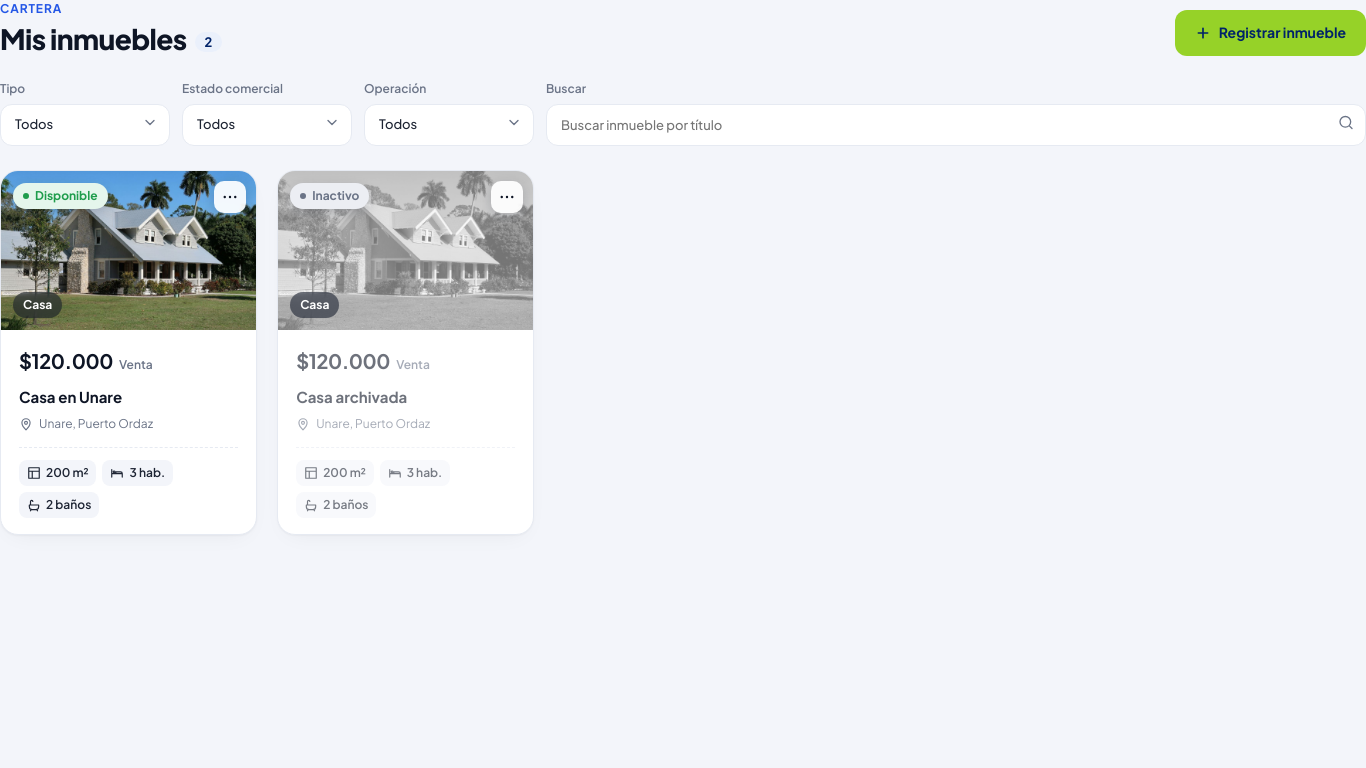
desactivar pide confirmación y un inactivo se puede reactivar sin confirmar
Expected: the link "Casa archivada" is shown, [296,387,407,406]
Expected: the text "Inactivo" is shown, [290,183,369,209]
Click the button named "Opciones de Casa en Unare". click: (230, 197)
box: [214,181,246,213]
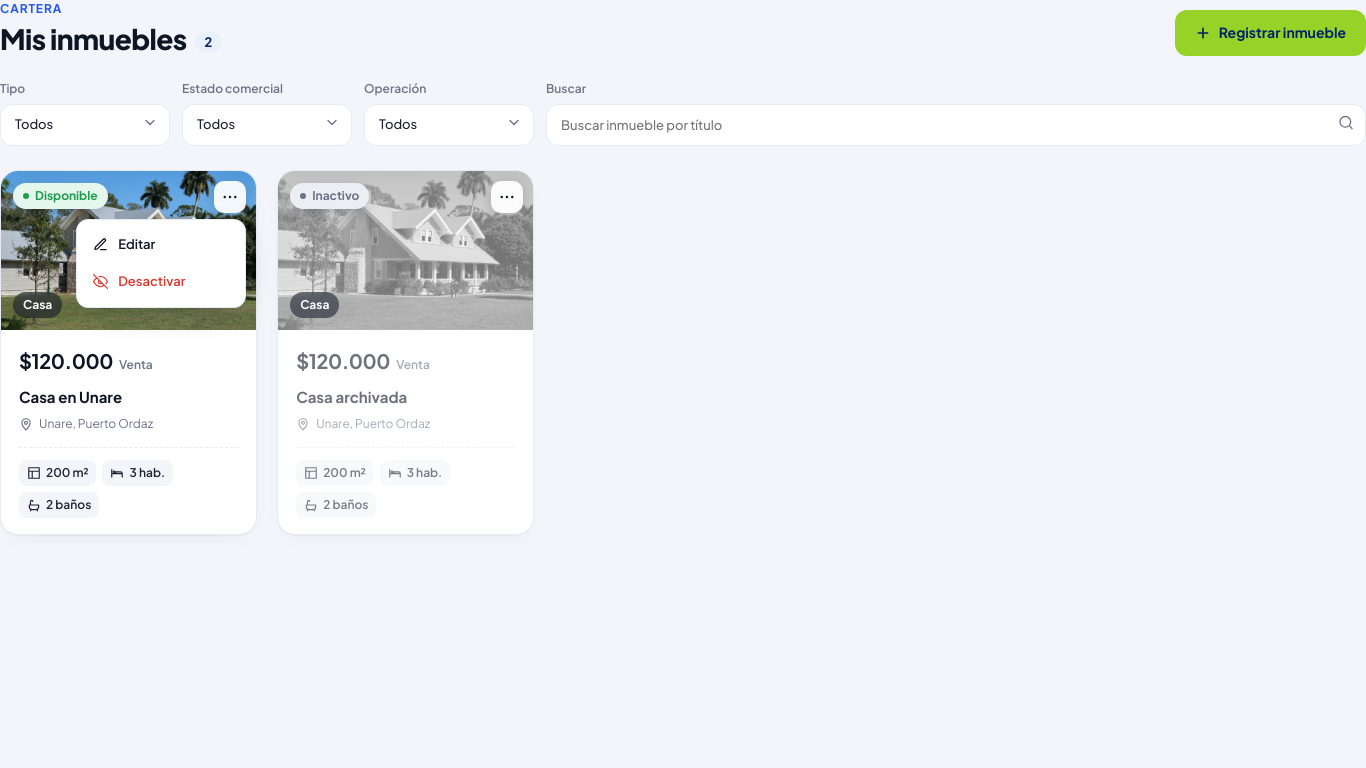
Click the menu item "Desactivar". click: (161, 282)
box: [83,263,239,301]
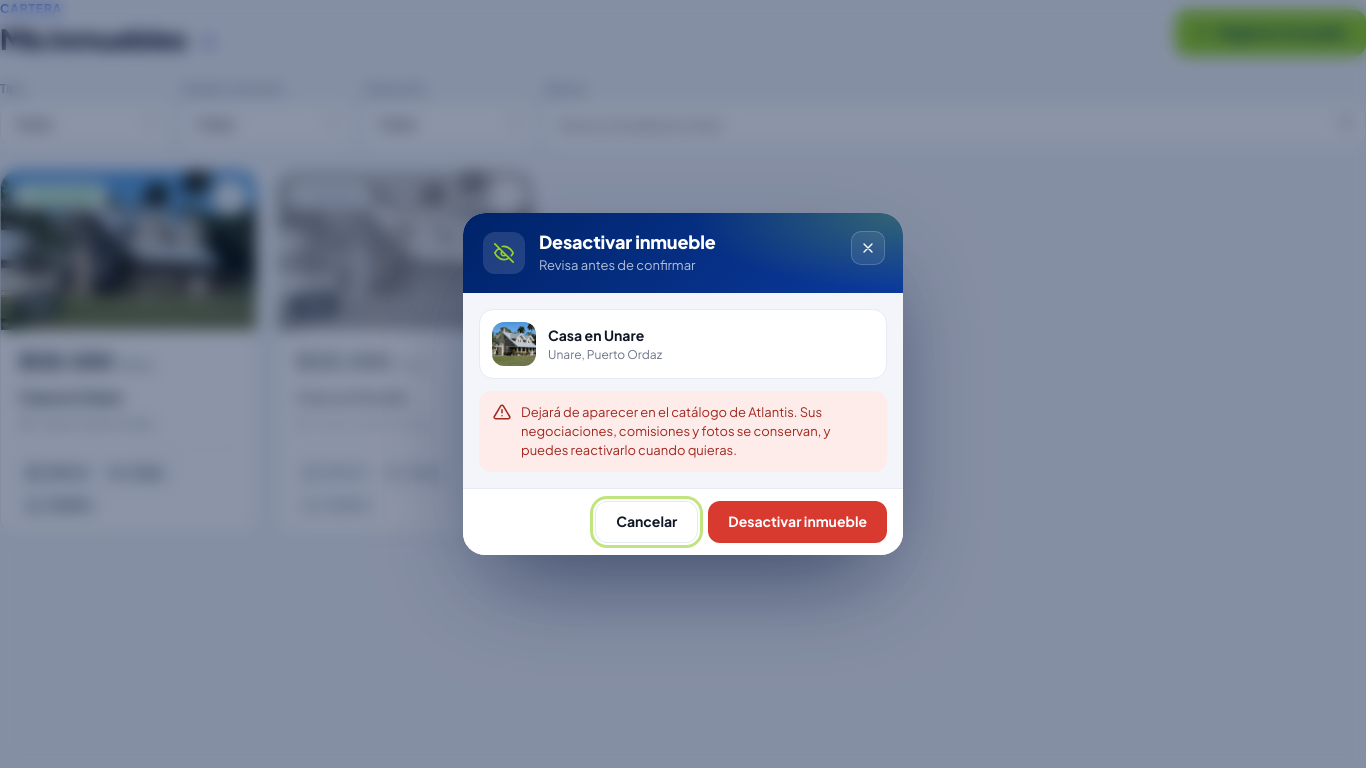
Expected: the dialog "Desactivar inmueble" shows "se conservan", [521,404,830,458]
Click the button "Desactivar inmueble". click: (798, 522)
box: [708,501,887,543]
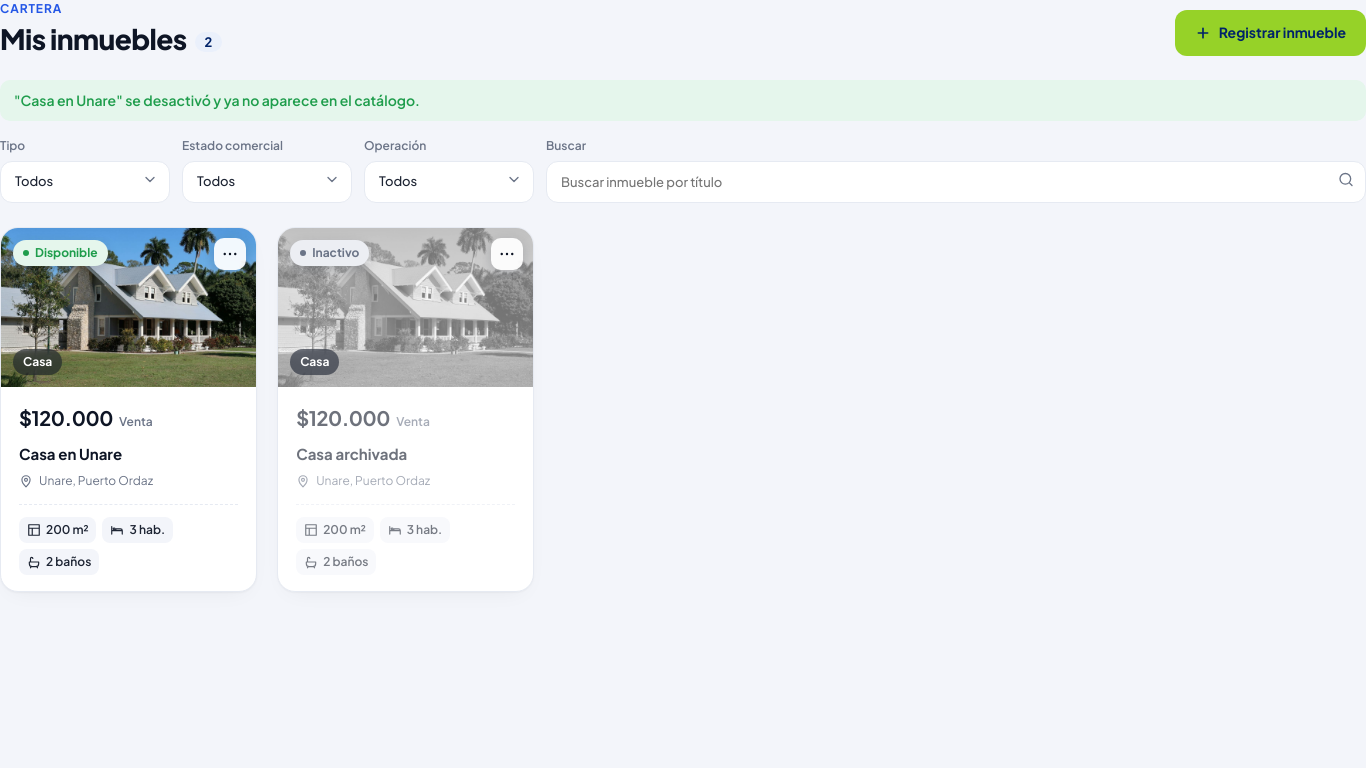
Expected: the message shows "\"Casa en Unare\" se desactivó", [14,91,420,109]
Click the button named "Opciones de Casa archivada". click: (507, 254)
box: [491,238,523,270]
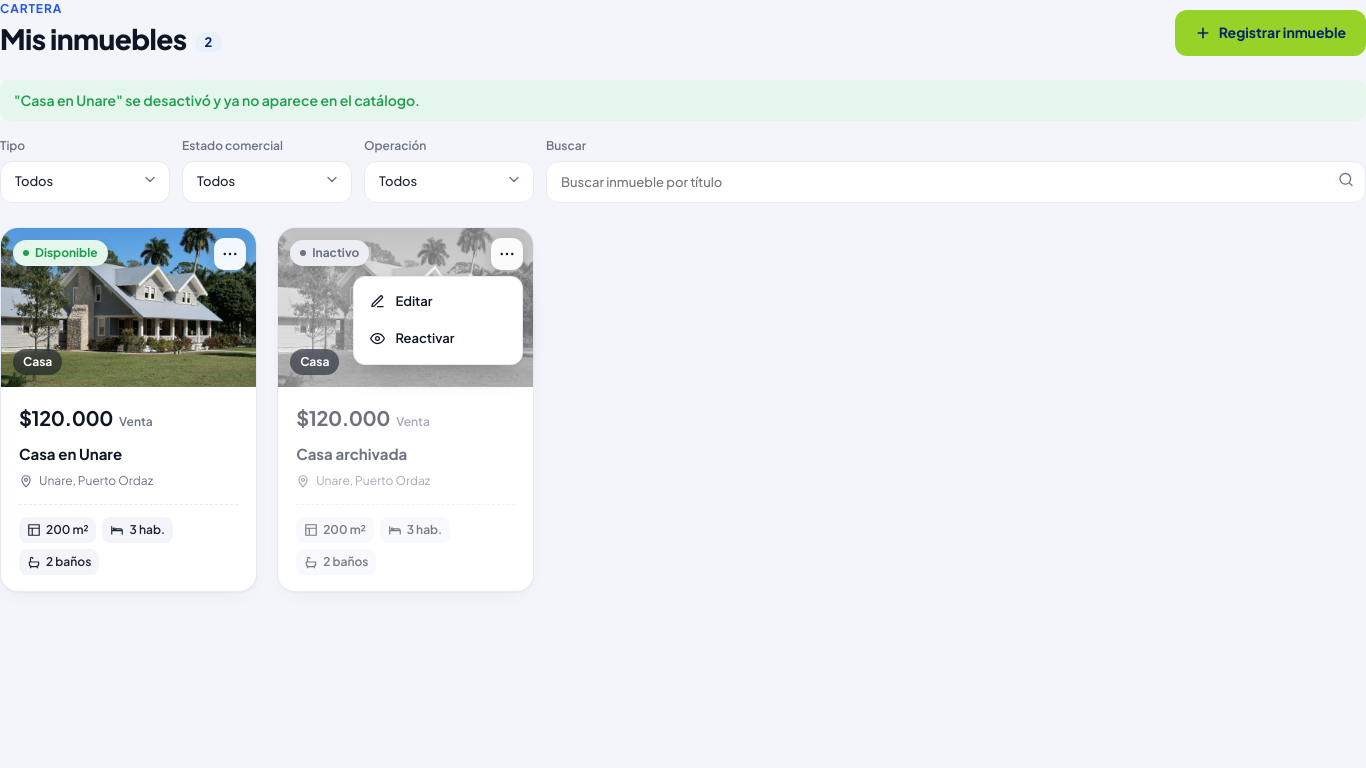
Click the menu item "Reactivar". click: (438, 339)
box: [360,320,516,358]
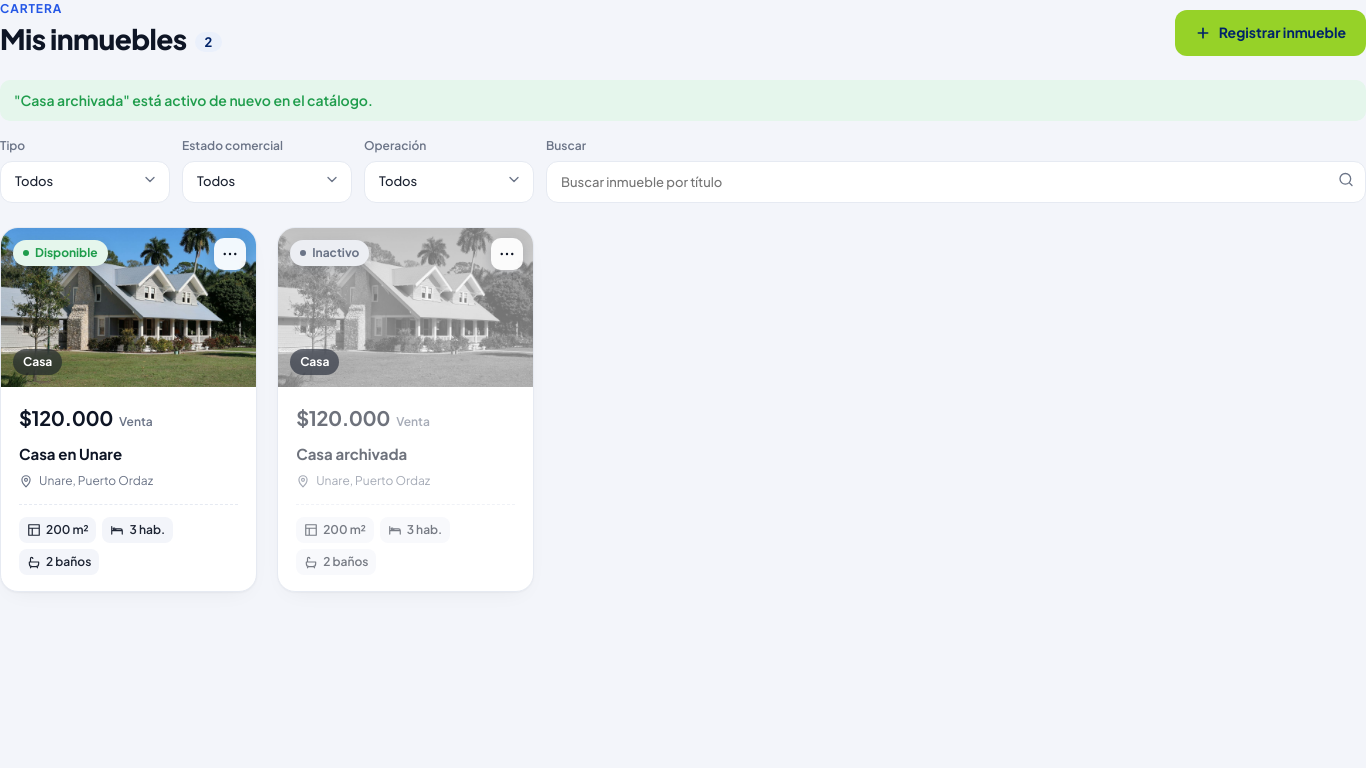
Expected: the text "\"Casa archivada\" está activo de nuevo en el catálogo." is shown, [0,80,1365,121]
